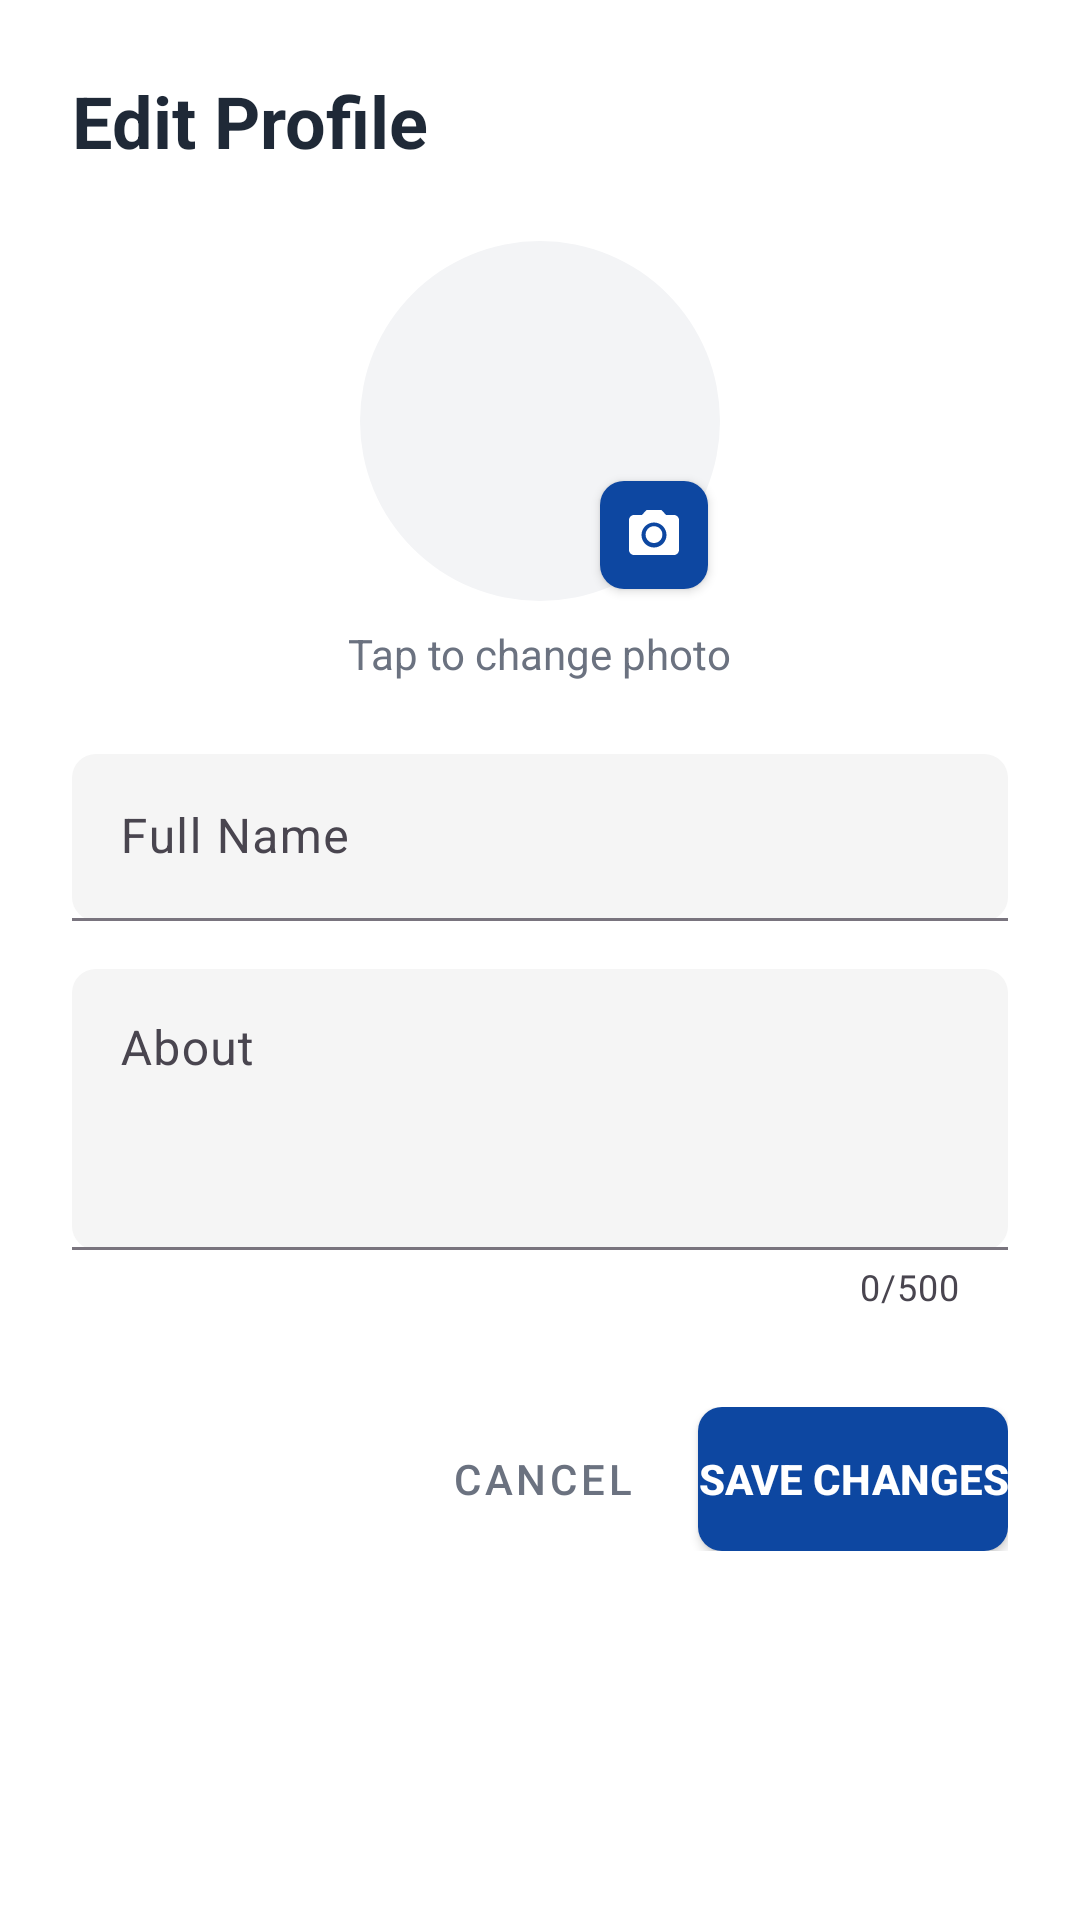

Named icons in this screenshot (1080px×1920px) and their bounding boxes, (x1, y1, x2, y2):
camera: (629, 510, 679, 555)
